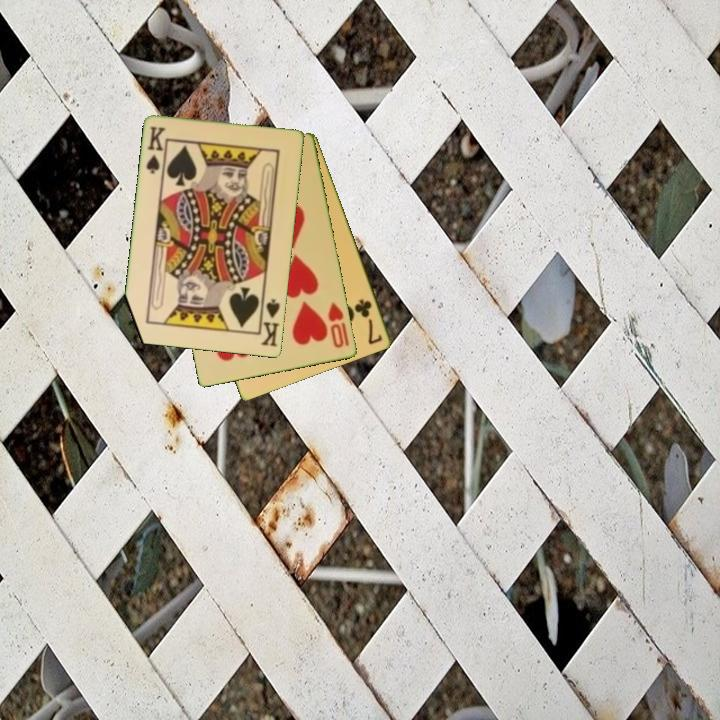10h: (325, 299, 347, 351)
7c: (352, 296, 385, 348)
Ks: (257, 293, 283, 350), (143, 123, 168, 177)
